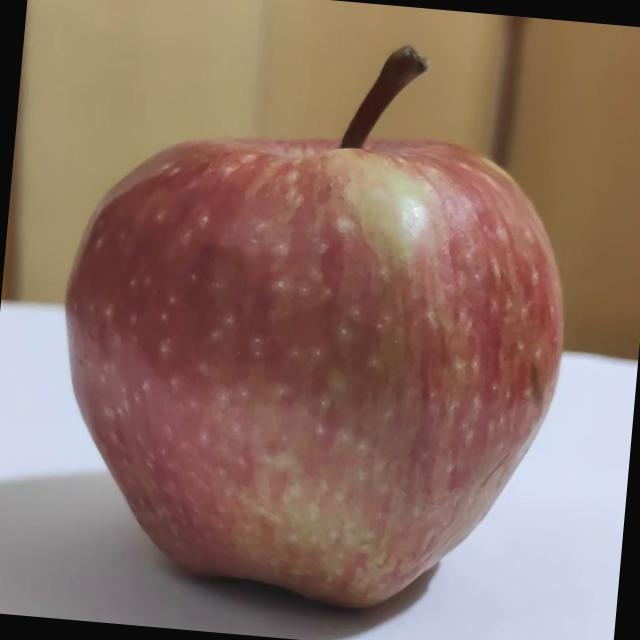apple: (0, 3, 634, 640)
